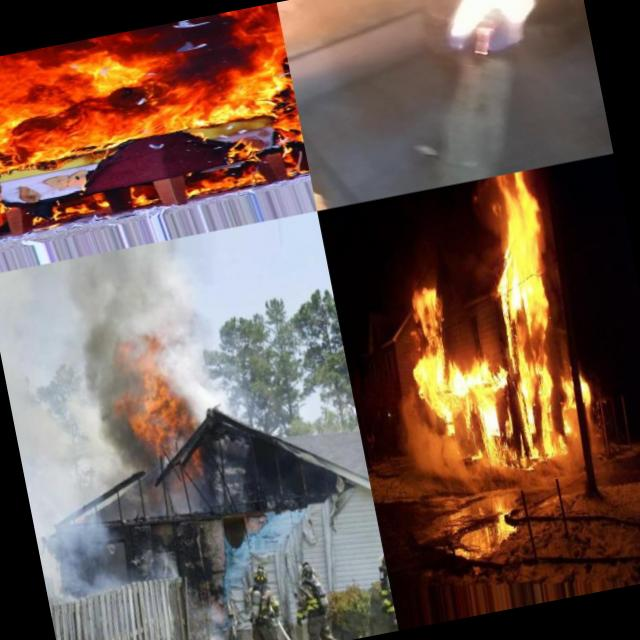fire: (0, 2, 298, 176), (468, 172, 576, 460), (394, 0, 582, 98), (394, 271, 510, 415), (118, 356, 210, 475), (458, 397, 524, 480), (560, 366, 594, 411)
smoke: (0, 265, 107, 603), (44, 250, 162, 482), (119, 237, 208, 367), (390, 407, 474, 504), (94, 502, 182, 594), (570, 407, 612, 482), (182, 587, 239, 640), (529, 452, 585, 502)
